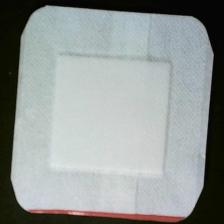Dressing: (9, 5, 219, 224)
Red_T: (24, 202, 192, 224)
